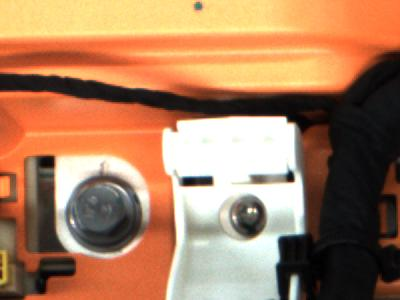nut_b: (65, 172, 150, 256)
